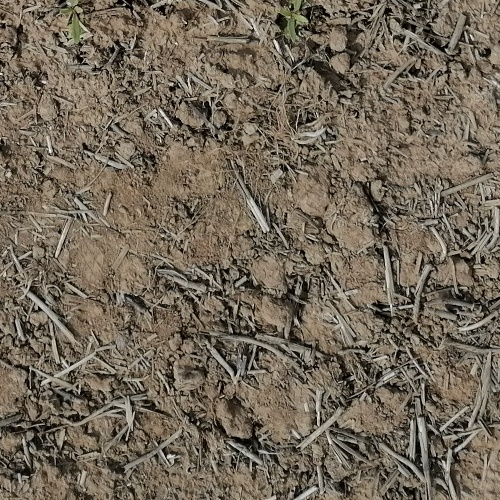beet: (276, 0, 309, 42), (65, 0, 83, 44)
